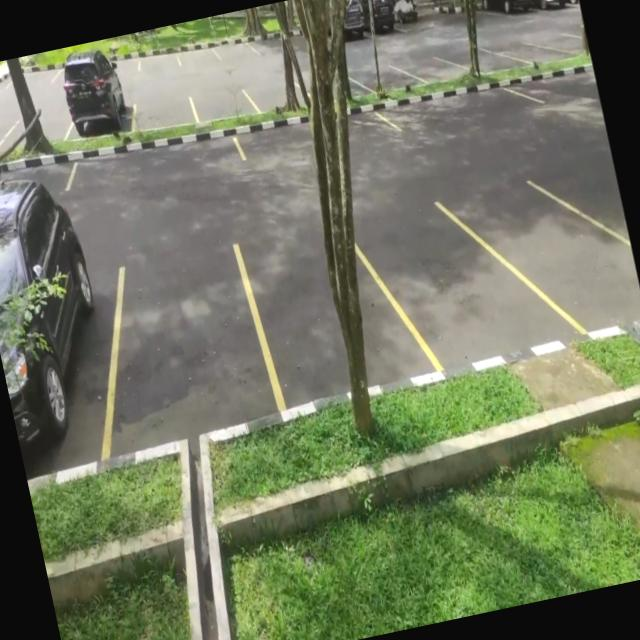car: (0, 184, 143, 477), (56, 56, 138, 145)
free: (91, 238, 280, 456), (237, 209, 412, 413), (374, 188, 540, 384), (495, 162, 640, 345), (62, 122, 248, 202), (376, 74, 534, 142), (235, 114, 316, 164), (128, 90, 199, 136), (190, 82, 257, 125), (246, 73, 310, 117), (502, 32, 572, 72), (448, 39, 508, 78), (358, 56, 414, 94), (210, 28, 258, 65), (410, 49, 458, 85), (174, 37, 220, 71), (134, 42, 180, 76), (0, 115, 20, 165)
